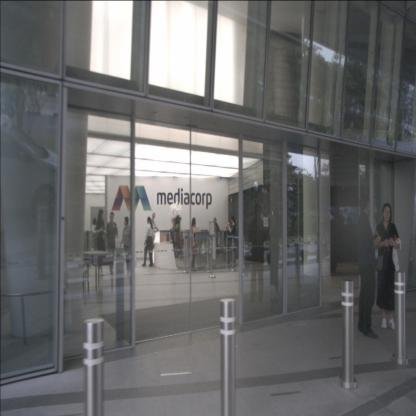human-pedestrian-adult: (374, 203, 402, 330), (357, 193, 380, 339), (94, 209, 109, 279), (106, 211, 118, 276), (120, 216, 133, 276), (142, 216, 154, 267), (226, 215, 236, 267), (149, 213, 158, 264), (190, 216, 198, 272), (211, 217, 221, 260), (92, 218, 98, 253)
vehicle-car: (0, 116, 75, 223)
